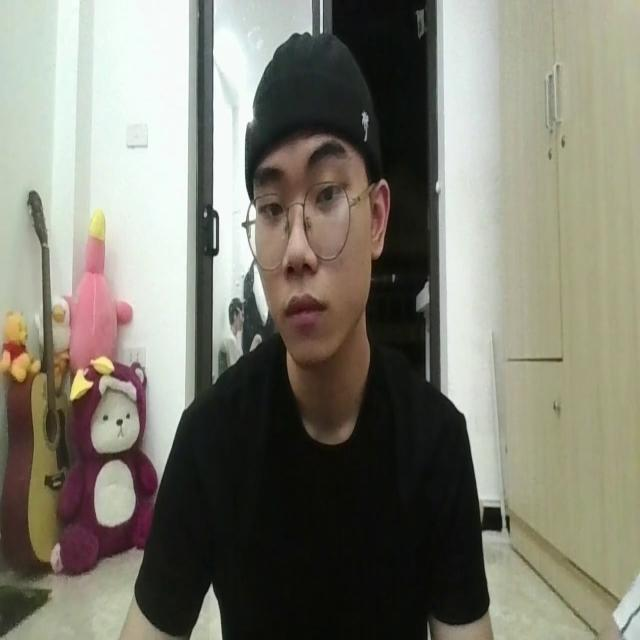student: (161, 21, 486, 640)
